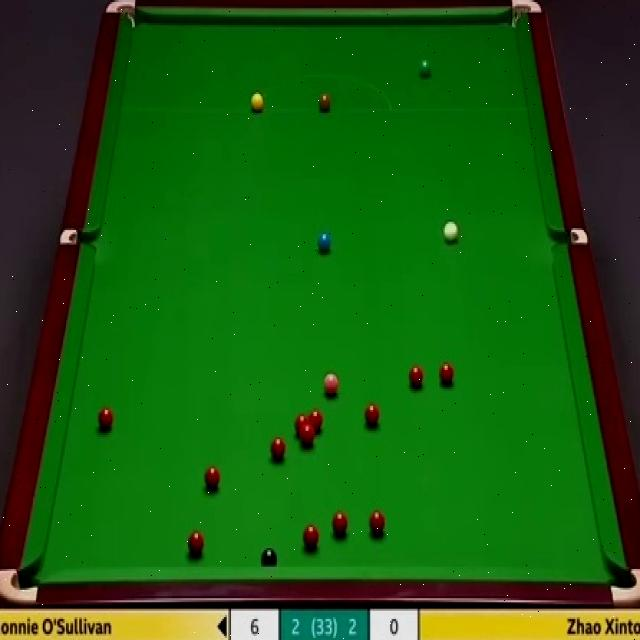black-ball: (260, 547, 280, 569)
blue-ball: (318, 230, 332, 257)
brown-ball: (318, 89, 331, 111)
green-ball: (416, 57, 431, 79)
pink-ball: (323, 373, 340, 399)
red-ball: (96, 405, 115, 433), (361, 400, 379, 428), (187, 529, 204, 558), (439, 361, 456, 389), (302, 522, 319, 550), (368, 511, 386, 537), (408, 363, 425, 390), (332, 510, 349, 536), (270, 437, 287, 462), (294, 414, 309, 440), (204, 467, 222, 488), (309, 410, 323, 434), (300, 427, 316, 448)
white-ball: (442, 221, 460, 241)
yellow-ball: (249, 93, 265, 112)
